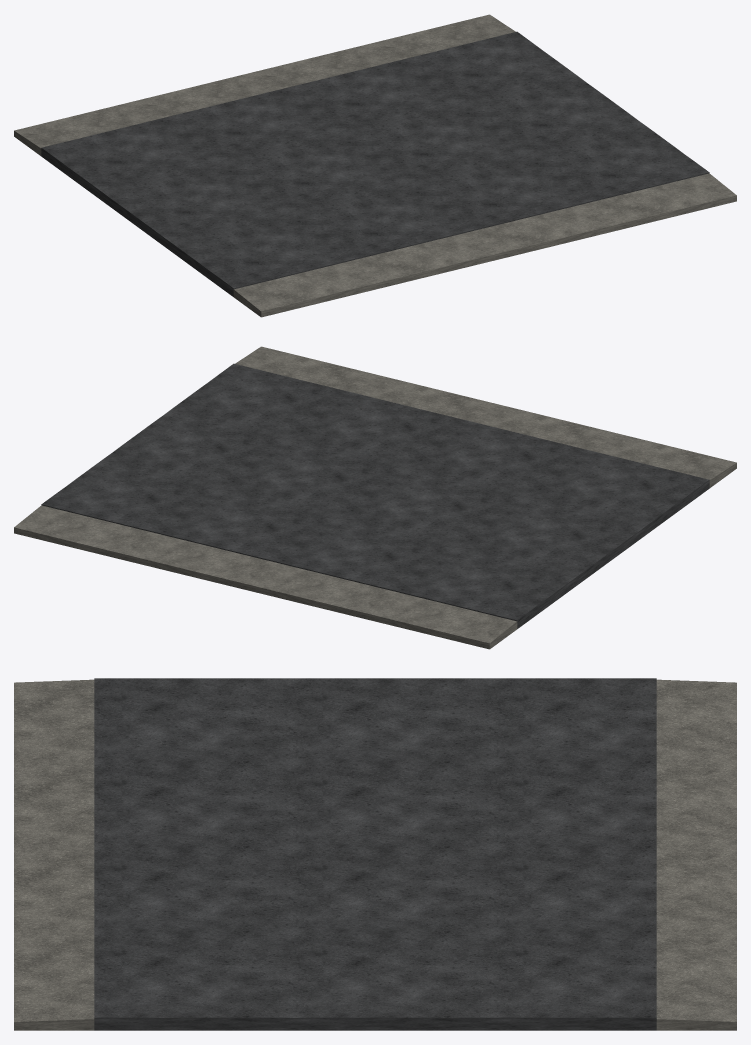
Rendered from PROJECT_Z_Road_Straight_Asphalt_10m.glb.
3 views of the same model, one above another, from view 1: azimuth 30°, elevation 25°; view 2: azimuth 150°, elevation 25°; view 3: azimuth 270°, elevation 25° (orthographic). The views are drawn at different scales.
Parts seen in each view (by area): view 1: SM_PZ_Asphalt_Roadbed_7m, SM_PZ_Shoulder_Left_1m, SM_PZ_Shoulder_Right_1m; view 2: SM_PZ_Asphalt_Roadbed_7m, SM_PZ_Shoulder_Right_1m, SM_PZ_Shoulder_Left_1m; view 3: SM_PZ_Asphalt_Roadbed_7m, SM_PZ_Shoulder_Left_1m, SM_PZ_Shoulder_Right_1m.
Part boxes in pixels (x1,y1,x2,y2): SM_PZ_Asphalt_Roadbed_7m: (41,31,709,296); SM_PZ_Shoulder_Left_1m: (233,173,736,317); SM_PZ_Shoulder_Right_1m: (14,14,515,155); SM_PZ_Asphalt_Roadbed_7m: (41,363,709,628); SM_PZ_Shoulder_Right_1m: (14,505,517,649); SM_PZ_Shoulder_Left_1m: (235,346,736,487); SM_PZ_Asphalt_Roadbed_7m: (94,678,656,1030); SM_PZ_Shoulder_Left_1m: (14,679,94,1030); SM_PZ_Shoulder_Right_1m: (656,679,736,1030).
Size of the model in its own units: 10 by 0.18 by 9.
Materials: 2 (2 with a texture image).
